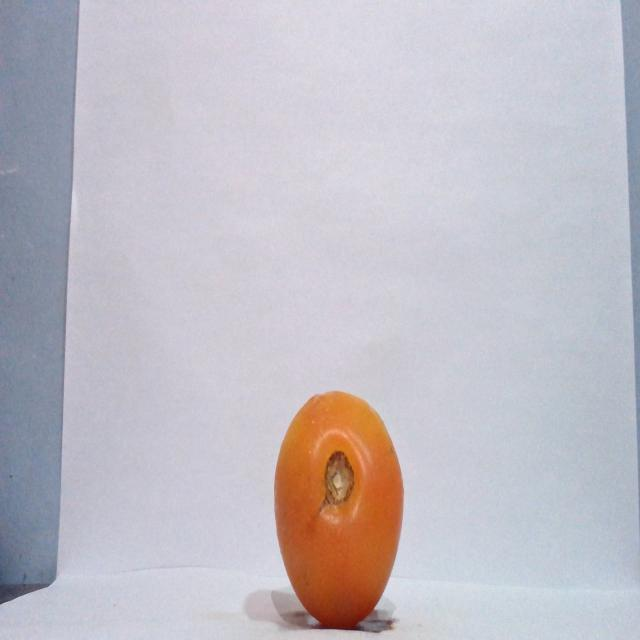Red: (272, 389, 405, 628)
